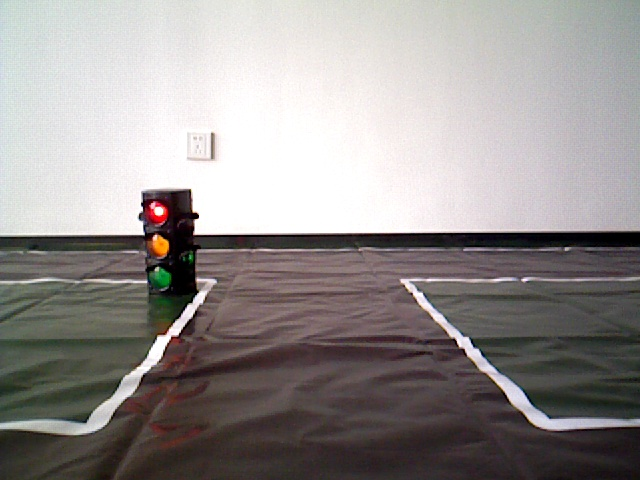red: (144, 190, 191, 295)
